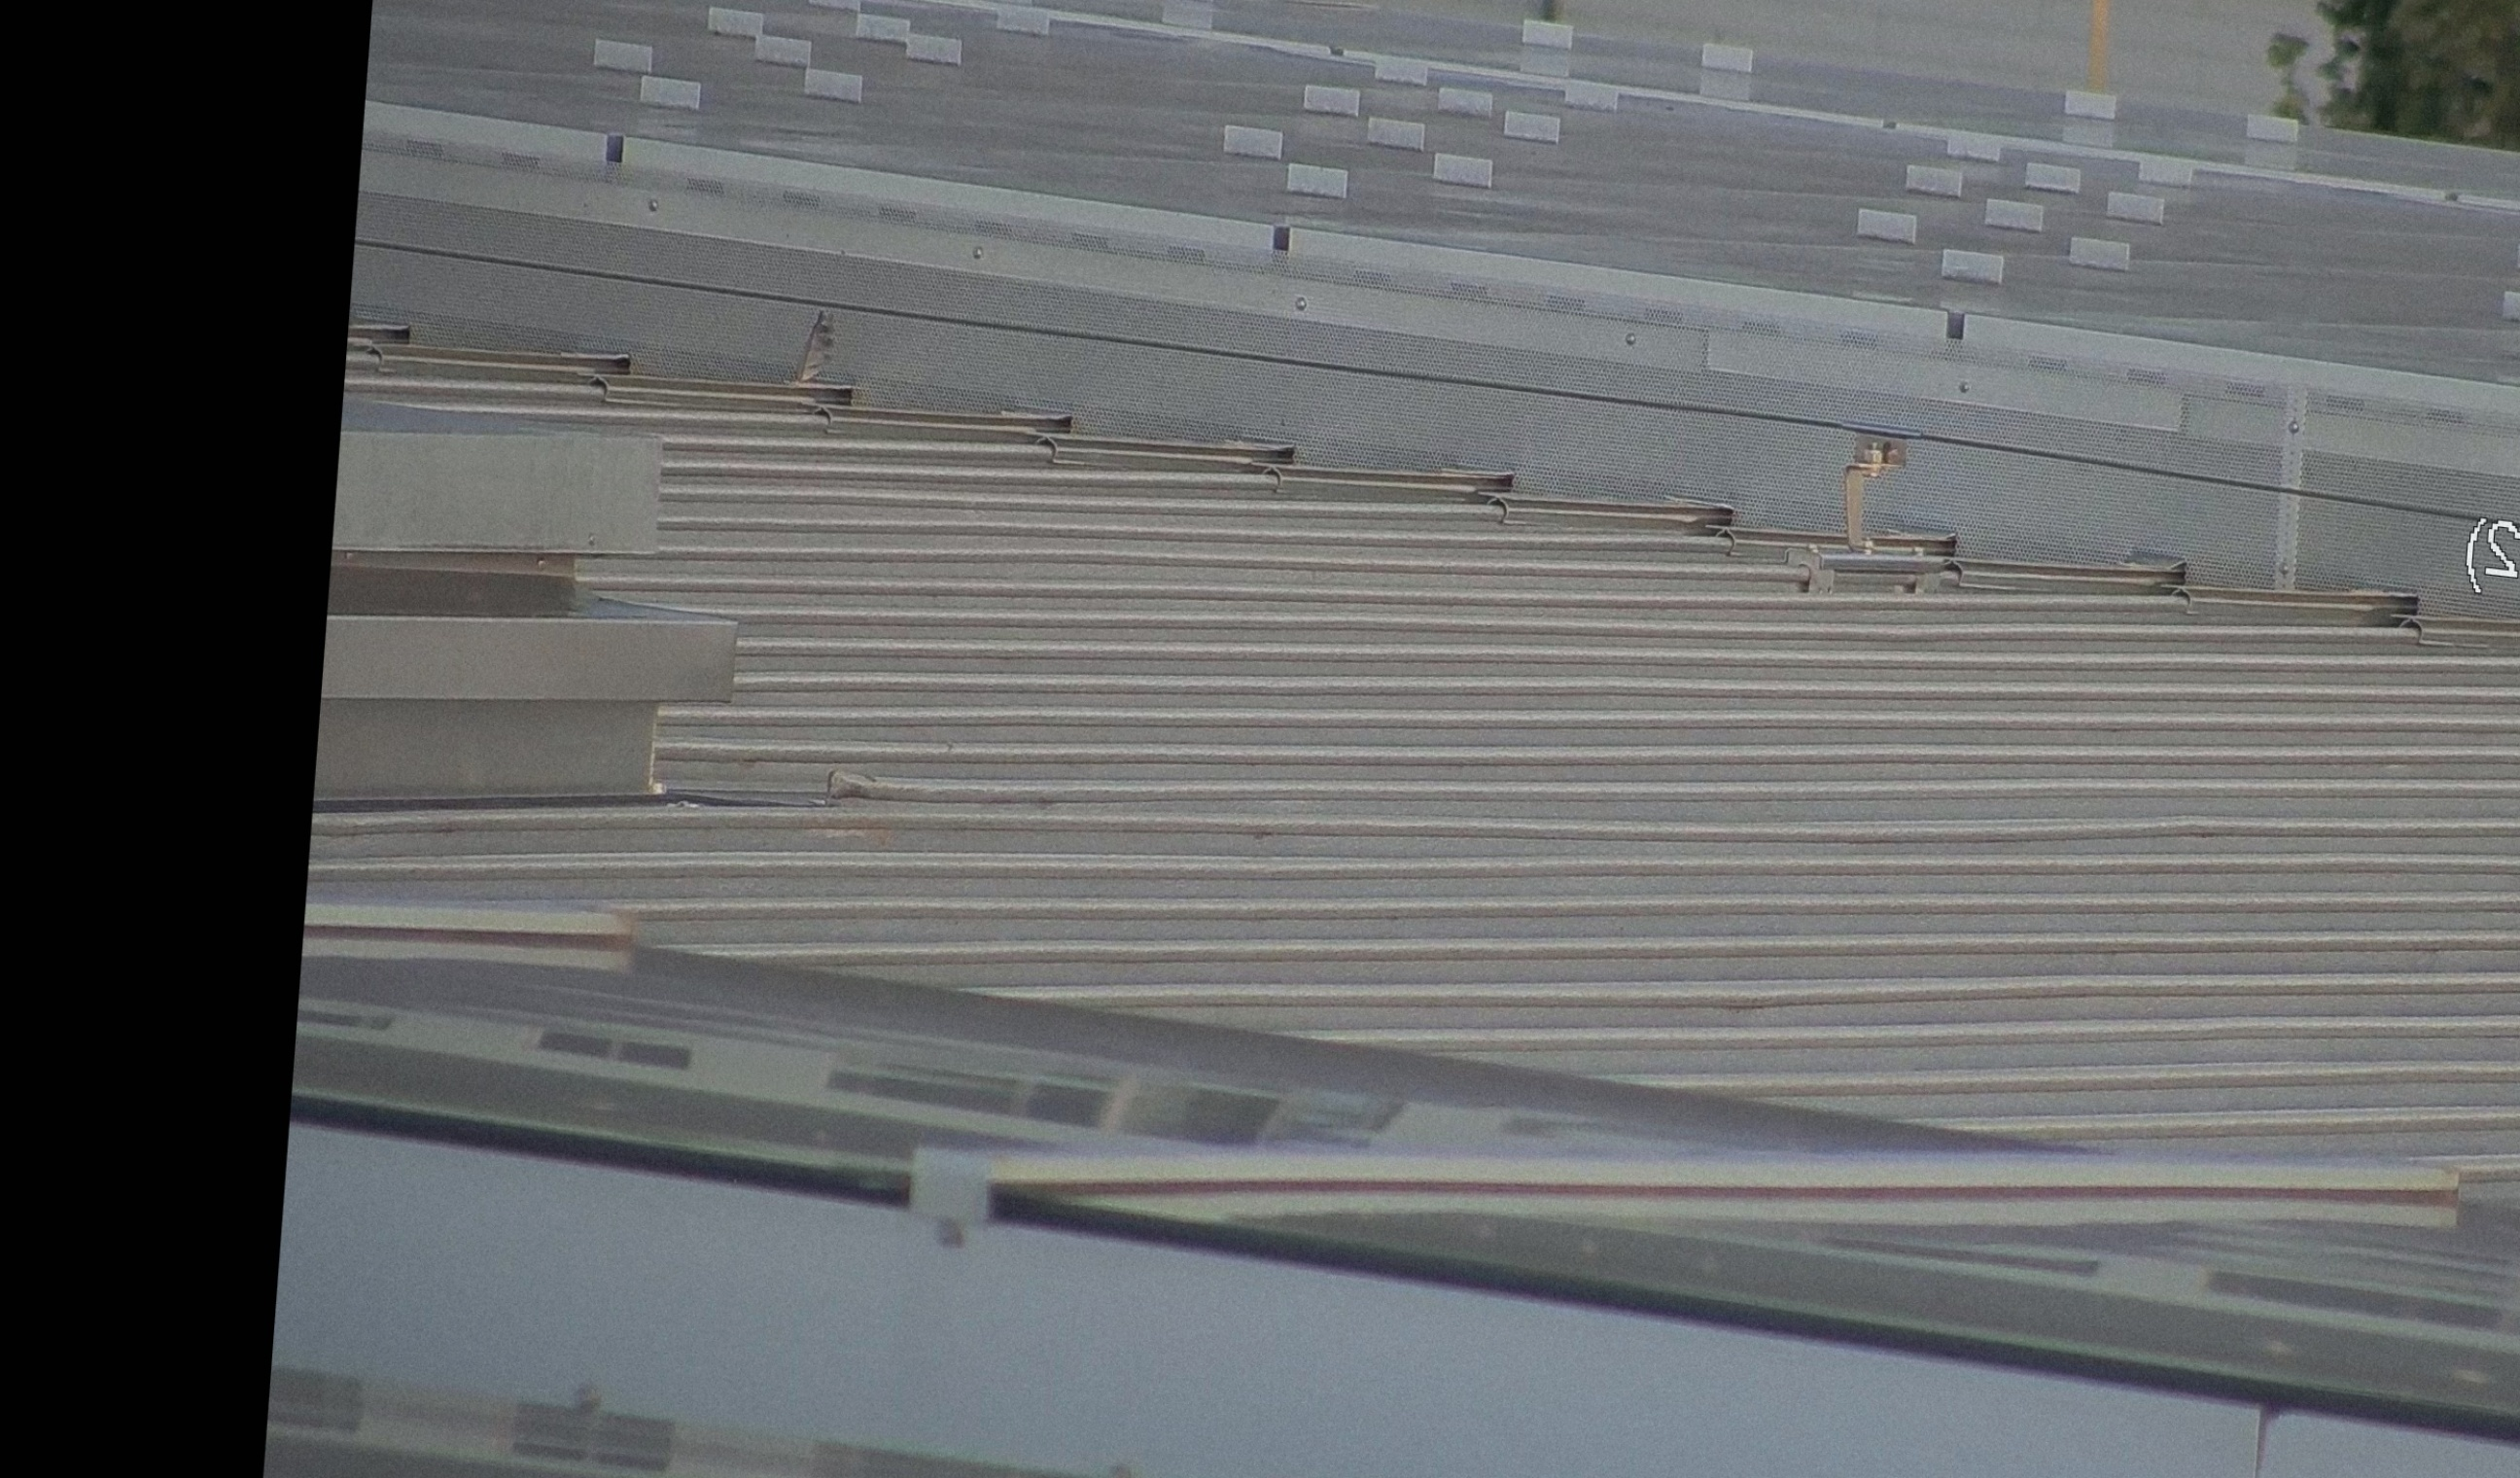Other: (776, 285, 848, 412)
